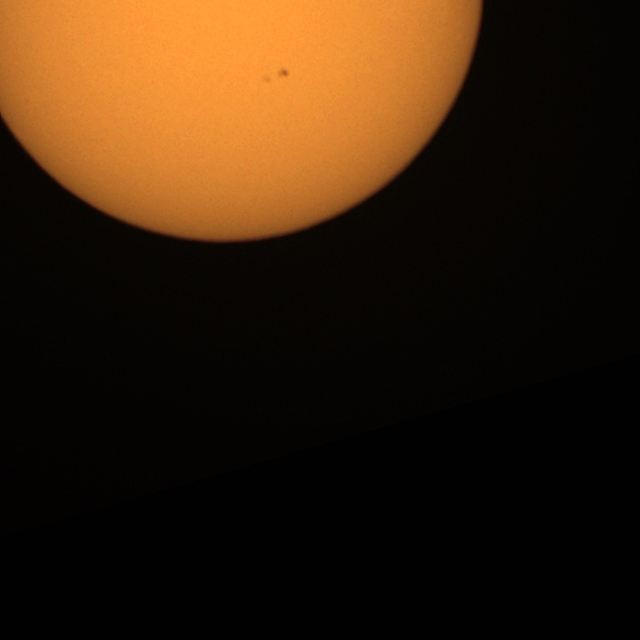sunspot: (262, 67, 291, 85), (276, 67, 291, 80)
